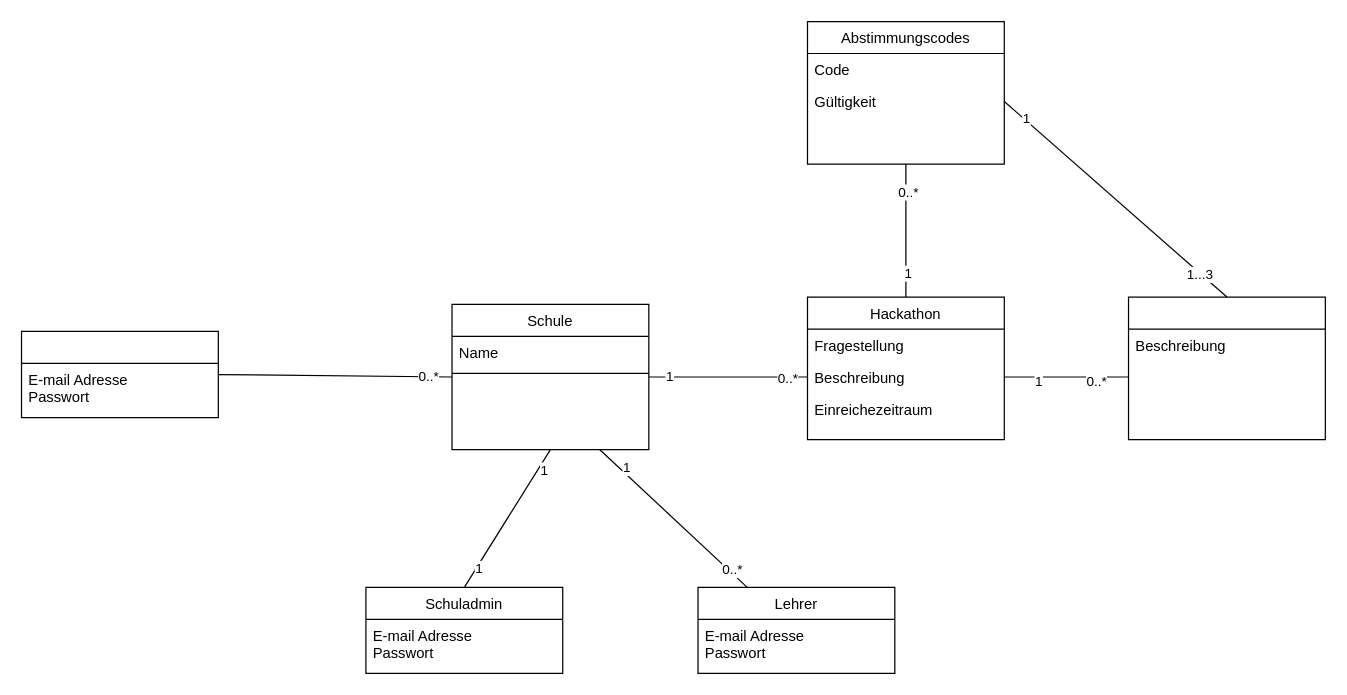
Some shapes in this 1347 by 695 pixel diagram are drawn without their labels. Here are the shapes that lost their labels. From the top down, the box of each, then its label:
(20, 330, 218, 418): Superadmin
(1127, 296, 1325, 440): Themenvorschläge
